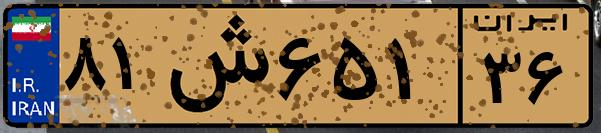1: (385, 28, 445, 110), (110, 28, 158, 98)
3: (475, 38, 525, 113)
5: (330, 28, 385, 110)
6: (270, 28, 330, 110), (525, 38, 570, 115)
8: (57, 26, 110, 100)
ش: (158, 12, 270, 120)
